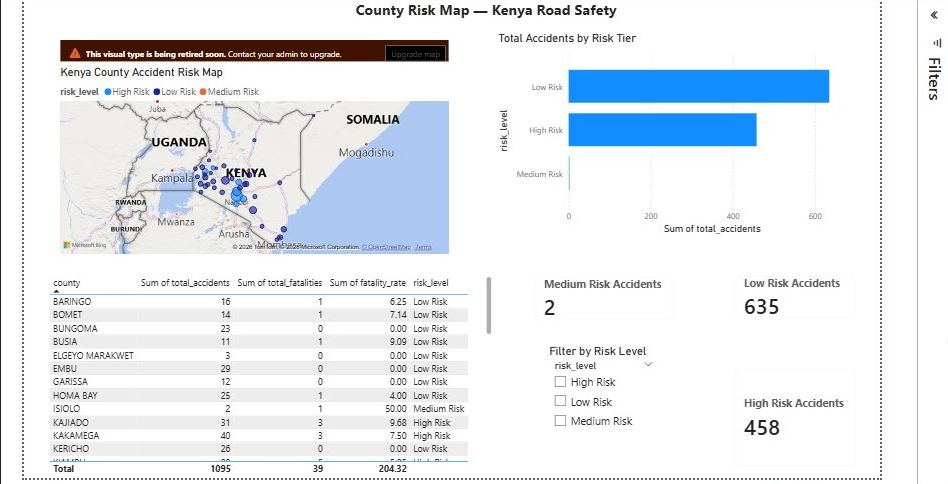

The dashboard page shown, as its layout file describes it:
{"tool":"powerbi","page":{"name":"County Risk Map","canvas":[1280,720],"ordinal":3},"visuals":[{"type":"textbox","box":[395.5,0,589.1,52.6],"z":0},{"type":"map","title":"Kenya County Accident Risk Map","fields":{"Category":["county_risk_powerbi.county"],"Y":["Avg(county_risk_powerbi.latitude)"],"X":["Avg(county_risk_powerbi.longitude)"],"Size":["Sum(county_risk_powerbi.total_accidents)"],"Series":["county_risk_powerbi.risk_level"]},"box":[49.3,65.7,590,325.6],"z":1000},{"type":"tableEx","fields":{"Values":["county_risk_powerbi.county","Sum(county_risk_powerbi.total_accidents)","Sum(county_risk_powerbi.total_fatalities)","Sum(county_risk_powerbi.fatality_rate)","county_risk_powerbi.risk_level"]},"box":[32.9,413.8,670.7,306.2],"z":2000},{"type":"clusteredBarChart","title":"Total Accidents by Risk Tier","fields":{"Category":["county_risk_powerbi.risk_level"],"Y":["Sum(county_risk_powerbi.total_accidents)"]},"box":[703.6,52.3,554.2,307.7],"z":3000},{"type":"slicer","title":"Filter by Risk Level","fields":{"Values":["county_risk_powerbi.risk_level"]},"box":[779.8,519.8,171.8,159.8],"z":4000},{"type":"cardVisual","fields":{"Data":["county_risk_powerbi.High Risk Accidents"]},"box":[1045.6,539.3,212.1,180.7],"z":5000},{"type":"cardVisual","fields":{"Data":["county_risk_powerbi.Medium Risk Accidents"]},"box":[746.9,401.8,239,98.6],"z":6000},{"type":"cardVisual","fields":{"Data":["county_risk_powerbi.Low Risk Accidents"]},"box":[1045.6,400.3,212.1,98.6],"z":7000}]}

Visuals, with their boxes on the page's 1280x720 design canvas (x1, y1, x2, y2). These are canvas units, not pixel positions in the 948x484 screenshot, which may show the page scaled, cropped or inside an application window:
textbox: l=396, t=0, r=985, b=53
"Kenya County Accident Risk Map" map: l=49, t=66, r=639, b=391
tableEx - county_risk_powerbi.county x Sum(county_risk_powerbi.total_accidents): l=33, t=414, r=704, b=720
"Total Accidents by Risk Tier" clusteredBarChart: l=704, t=52, r=1258, b=360
"Filter by Risk Level" slicer: l=780, t=520, r=952, b=680
cardVisual - county_risk_powerbi.High Risk Accidents: l=1046, t=539, r=1258, b=720
cardVisual - county_risk_powerbi.Medium Risk Accidents: l=747, t=402, r=986, b=500
cardVisual - county_risk_powerbi.Low Risk Accidents: l=1046, t=400, r=1258, b=499
